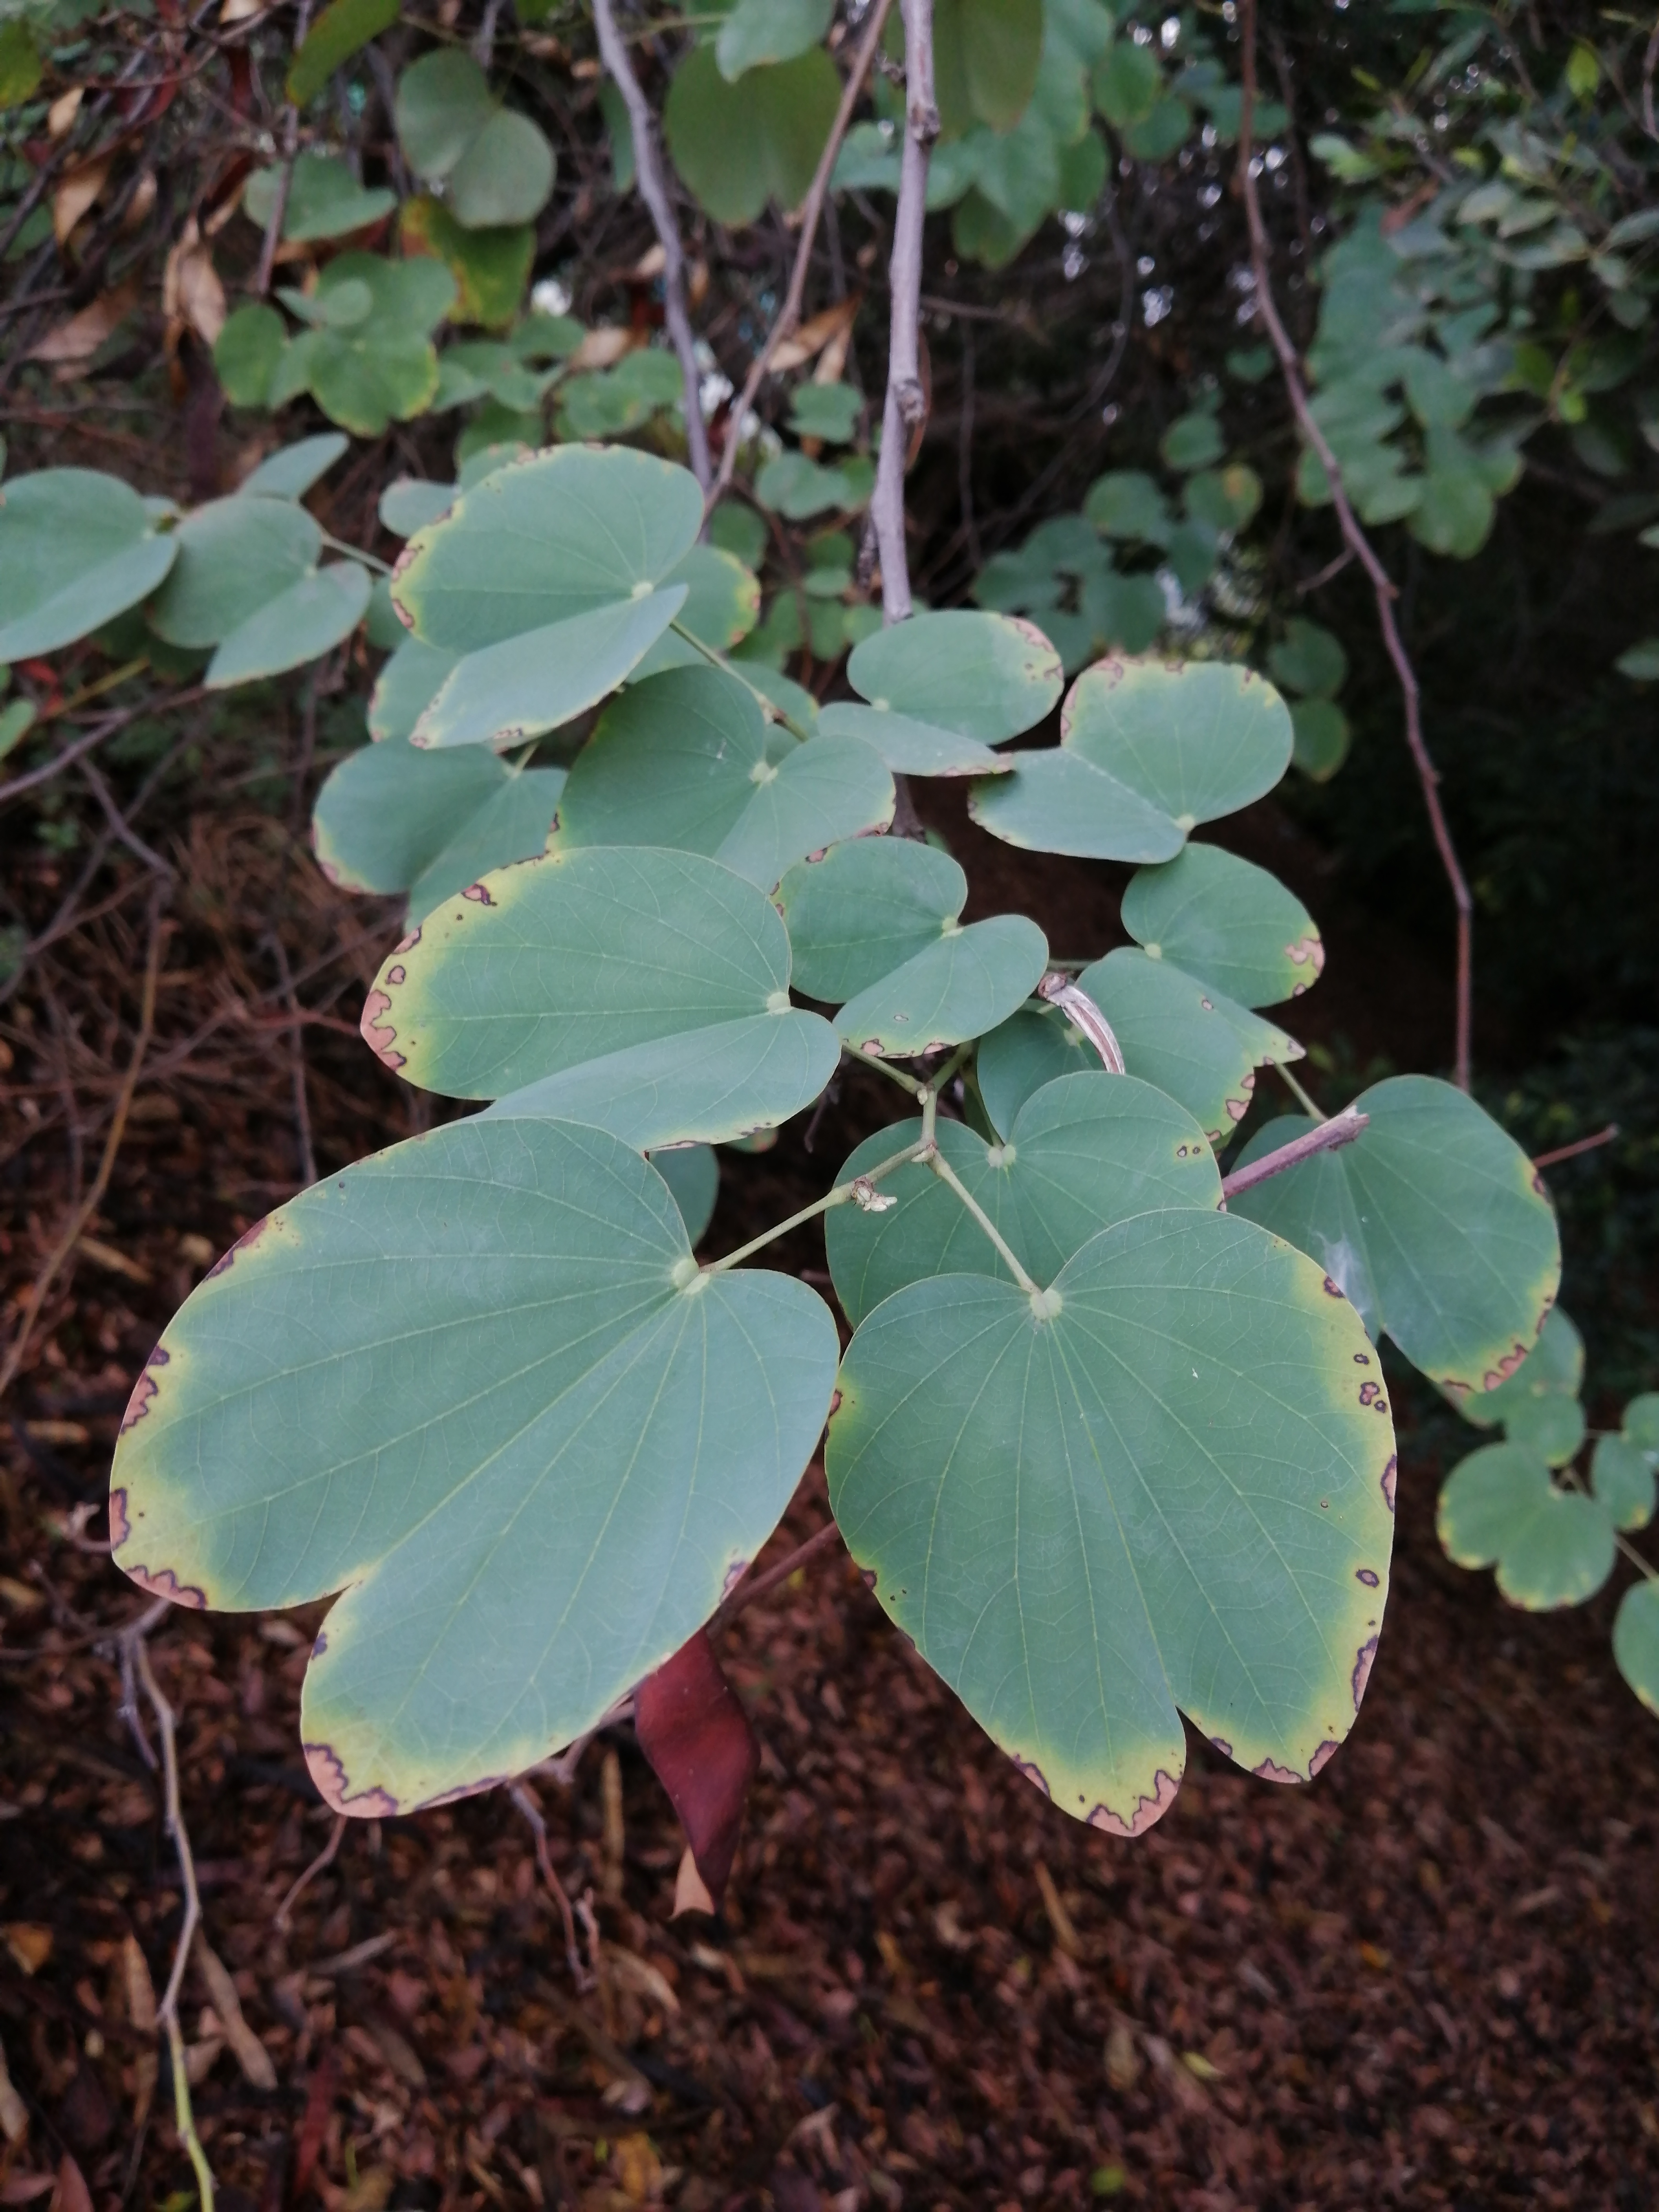nothealthy: (94, 1096, 843, 1825), (814, 1195, 1410, 1848), (350, 829, 847, 1183), (376, 418, 735, 758)
